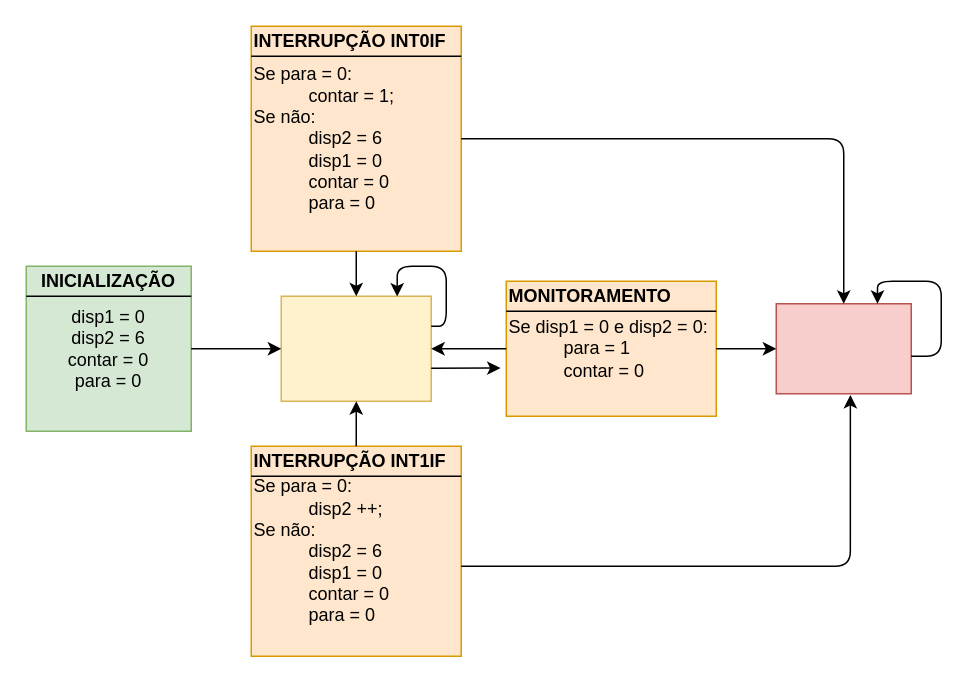
The diagram is 980 pixels wide and 683 high, and some of its shapes have lost their labels. The shapes that lost their labels are listed below. From the top down, each one's centre as x and y in pixels, then its label:
At pixel 355 348: "CONTADOR REGRESSIVO".
At pixel 843 348: "BUZZER!".
